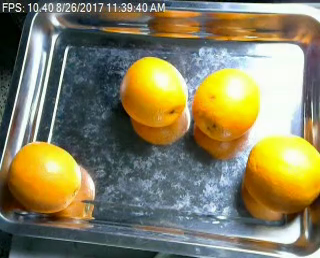Orange: (247, 134, 320, 213), (6, 140, 79, 213), (191, 67, 260, 141), (120, 56, 188, 126)
